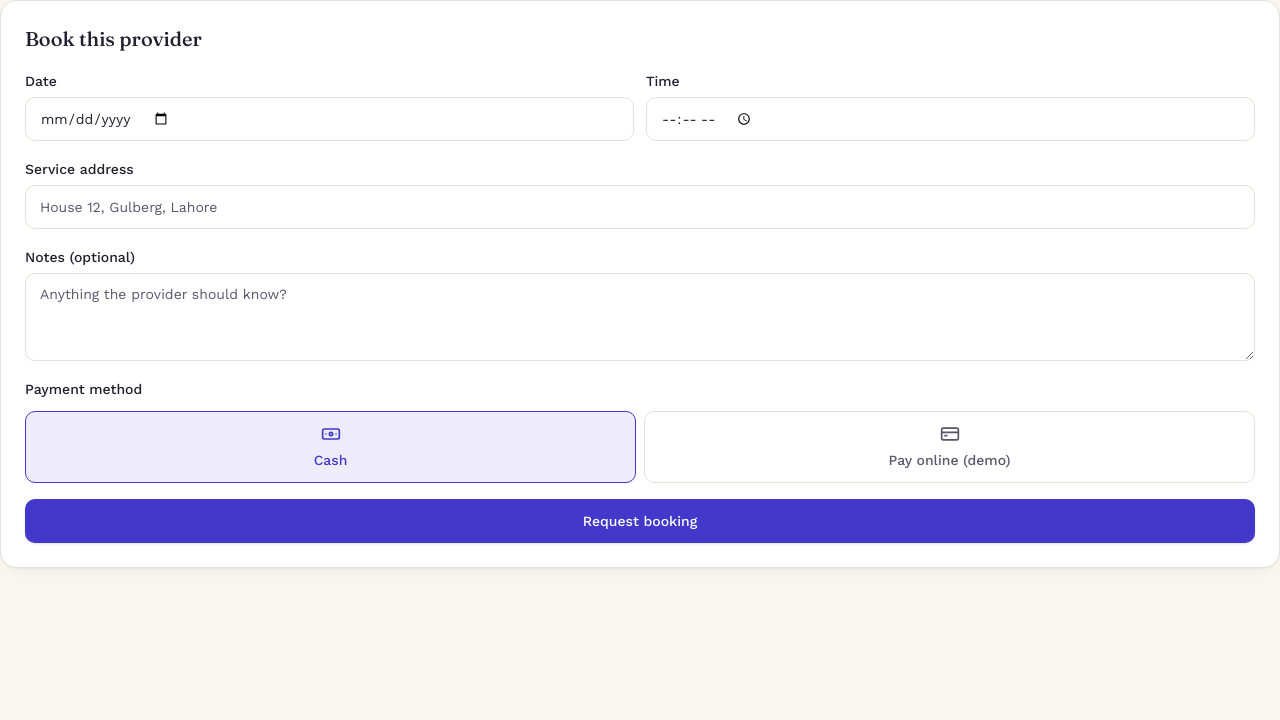
Scenario: BookingForm › shows the server's conflict error on a double-booked slot
Type "2026-09-01" into the date field labelled "Date" at [330, 119], box [25, 97, 634, 141]
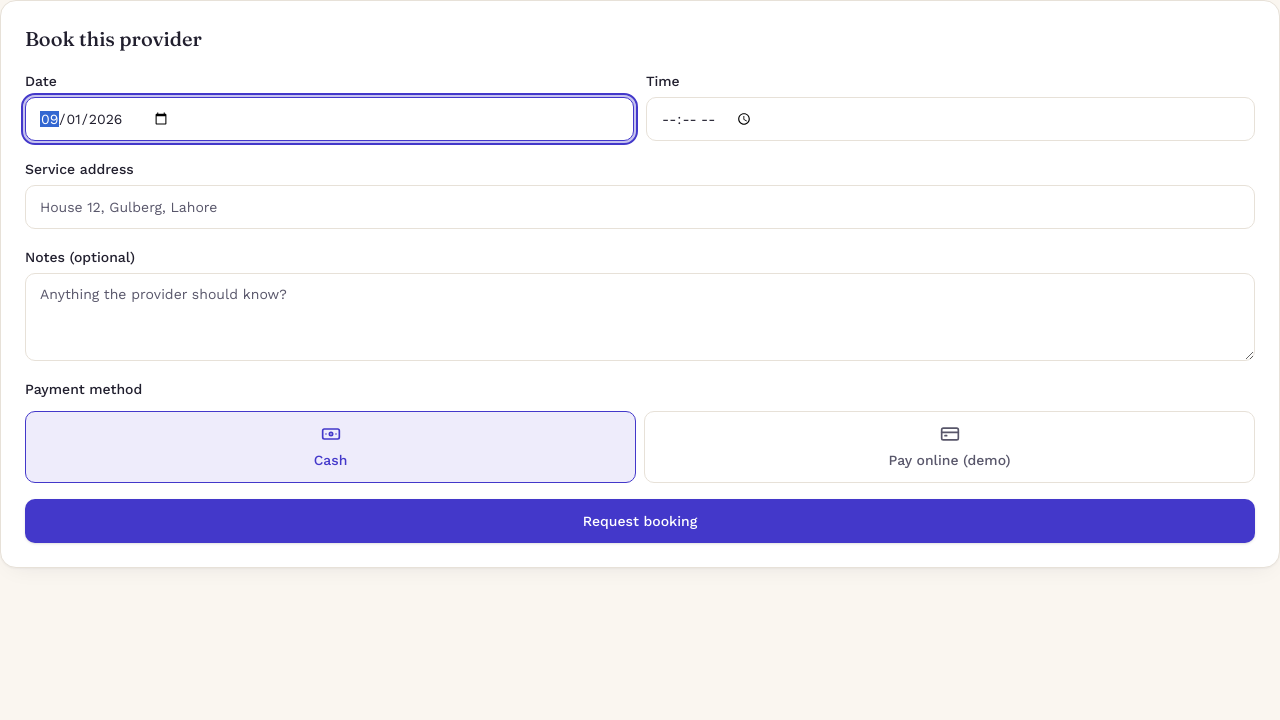
Type "10:00" into the time field labelled "Time" at [950, 119], box [646, 97, 1255, 141]
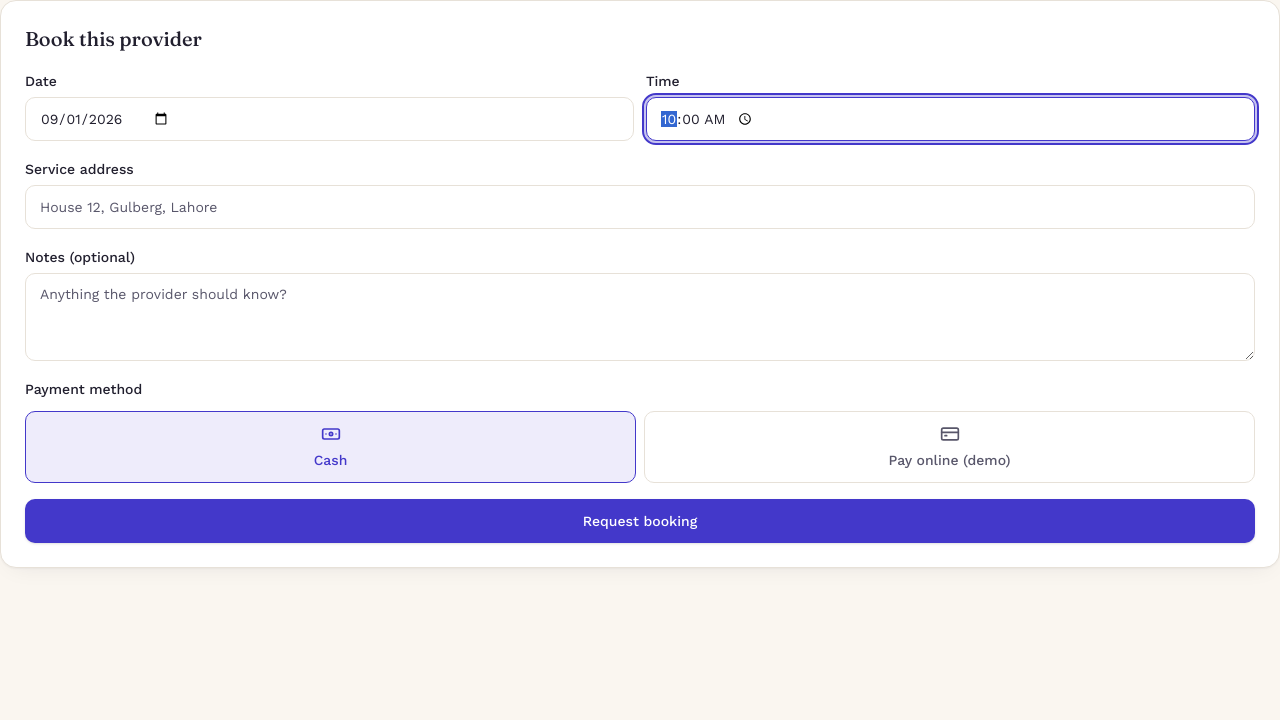
Type "Somewhere" into the field labelled "Service address" at [640, 207], box [25, 185, 1255, 229]
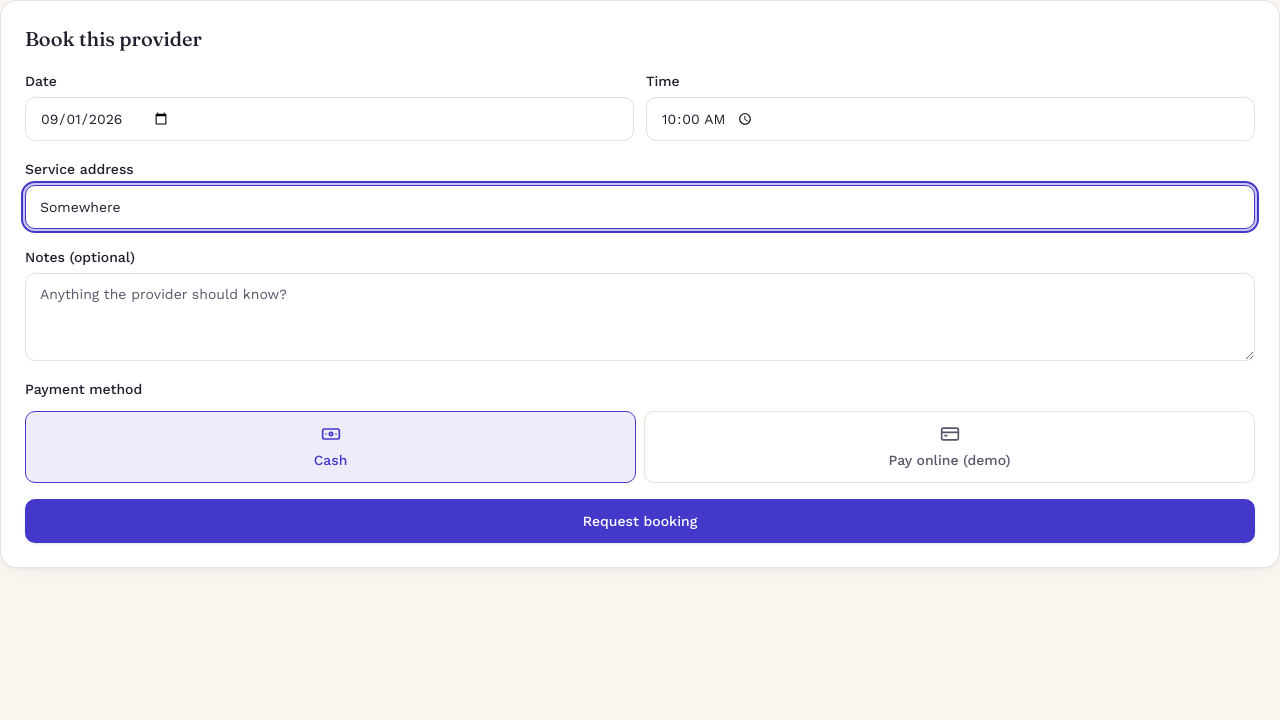
Click the button "Request booking" at [640, 521], box [25, 499, 1255, 543]
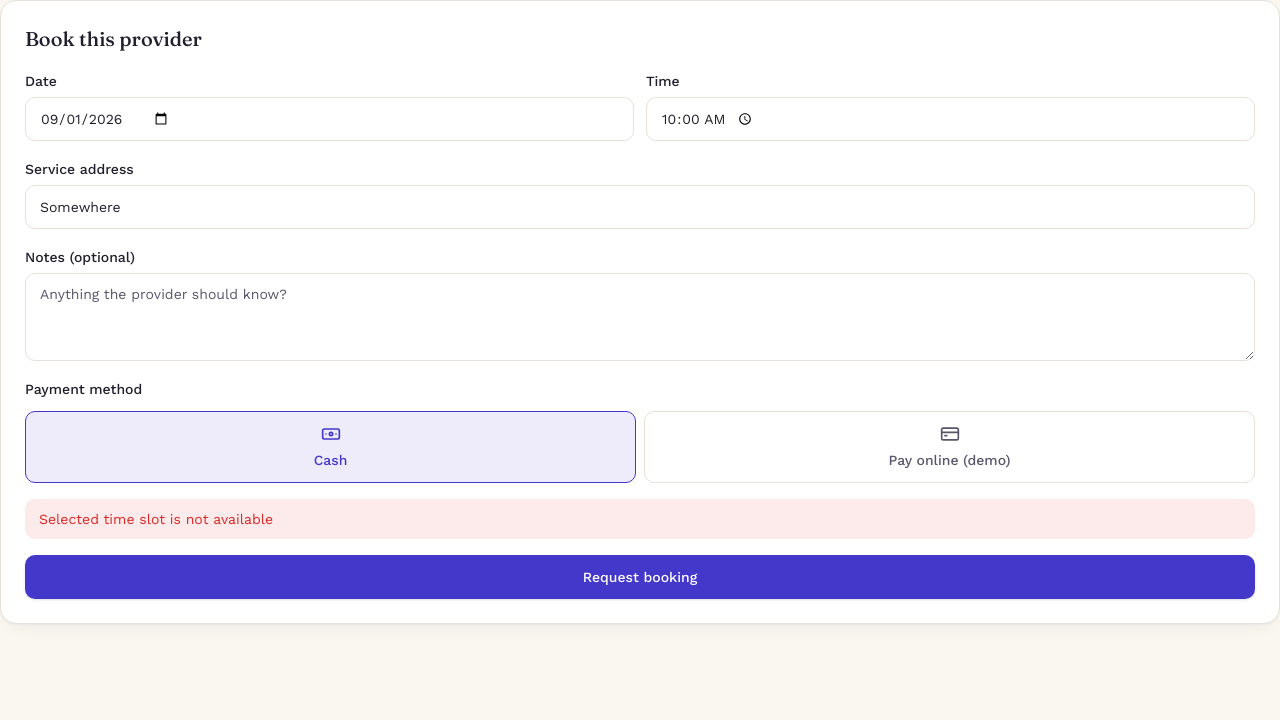
Expected: the text "Selected time slot is not available" is shown, [25, 499, 1255, 539]
